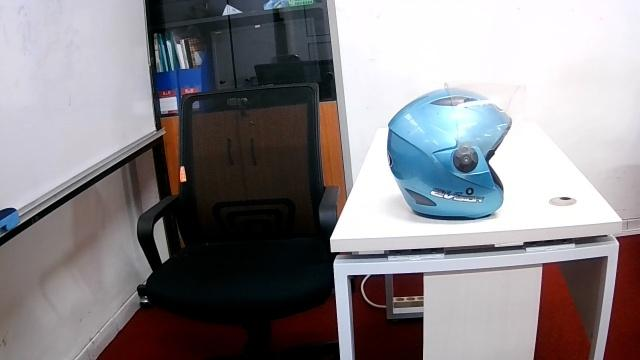Kursi: (136, 82, 338, 359)
Meja: (327, 115, 623, 358)
Whiteboard: (0, 0, 163, 246)
